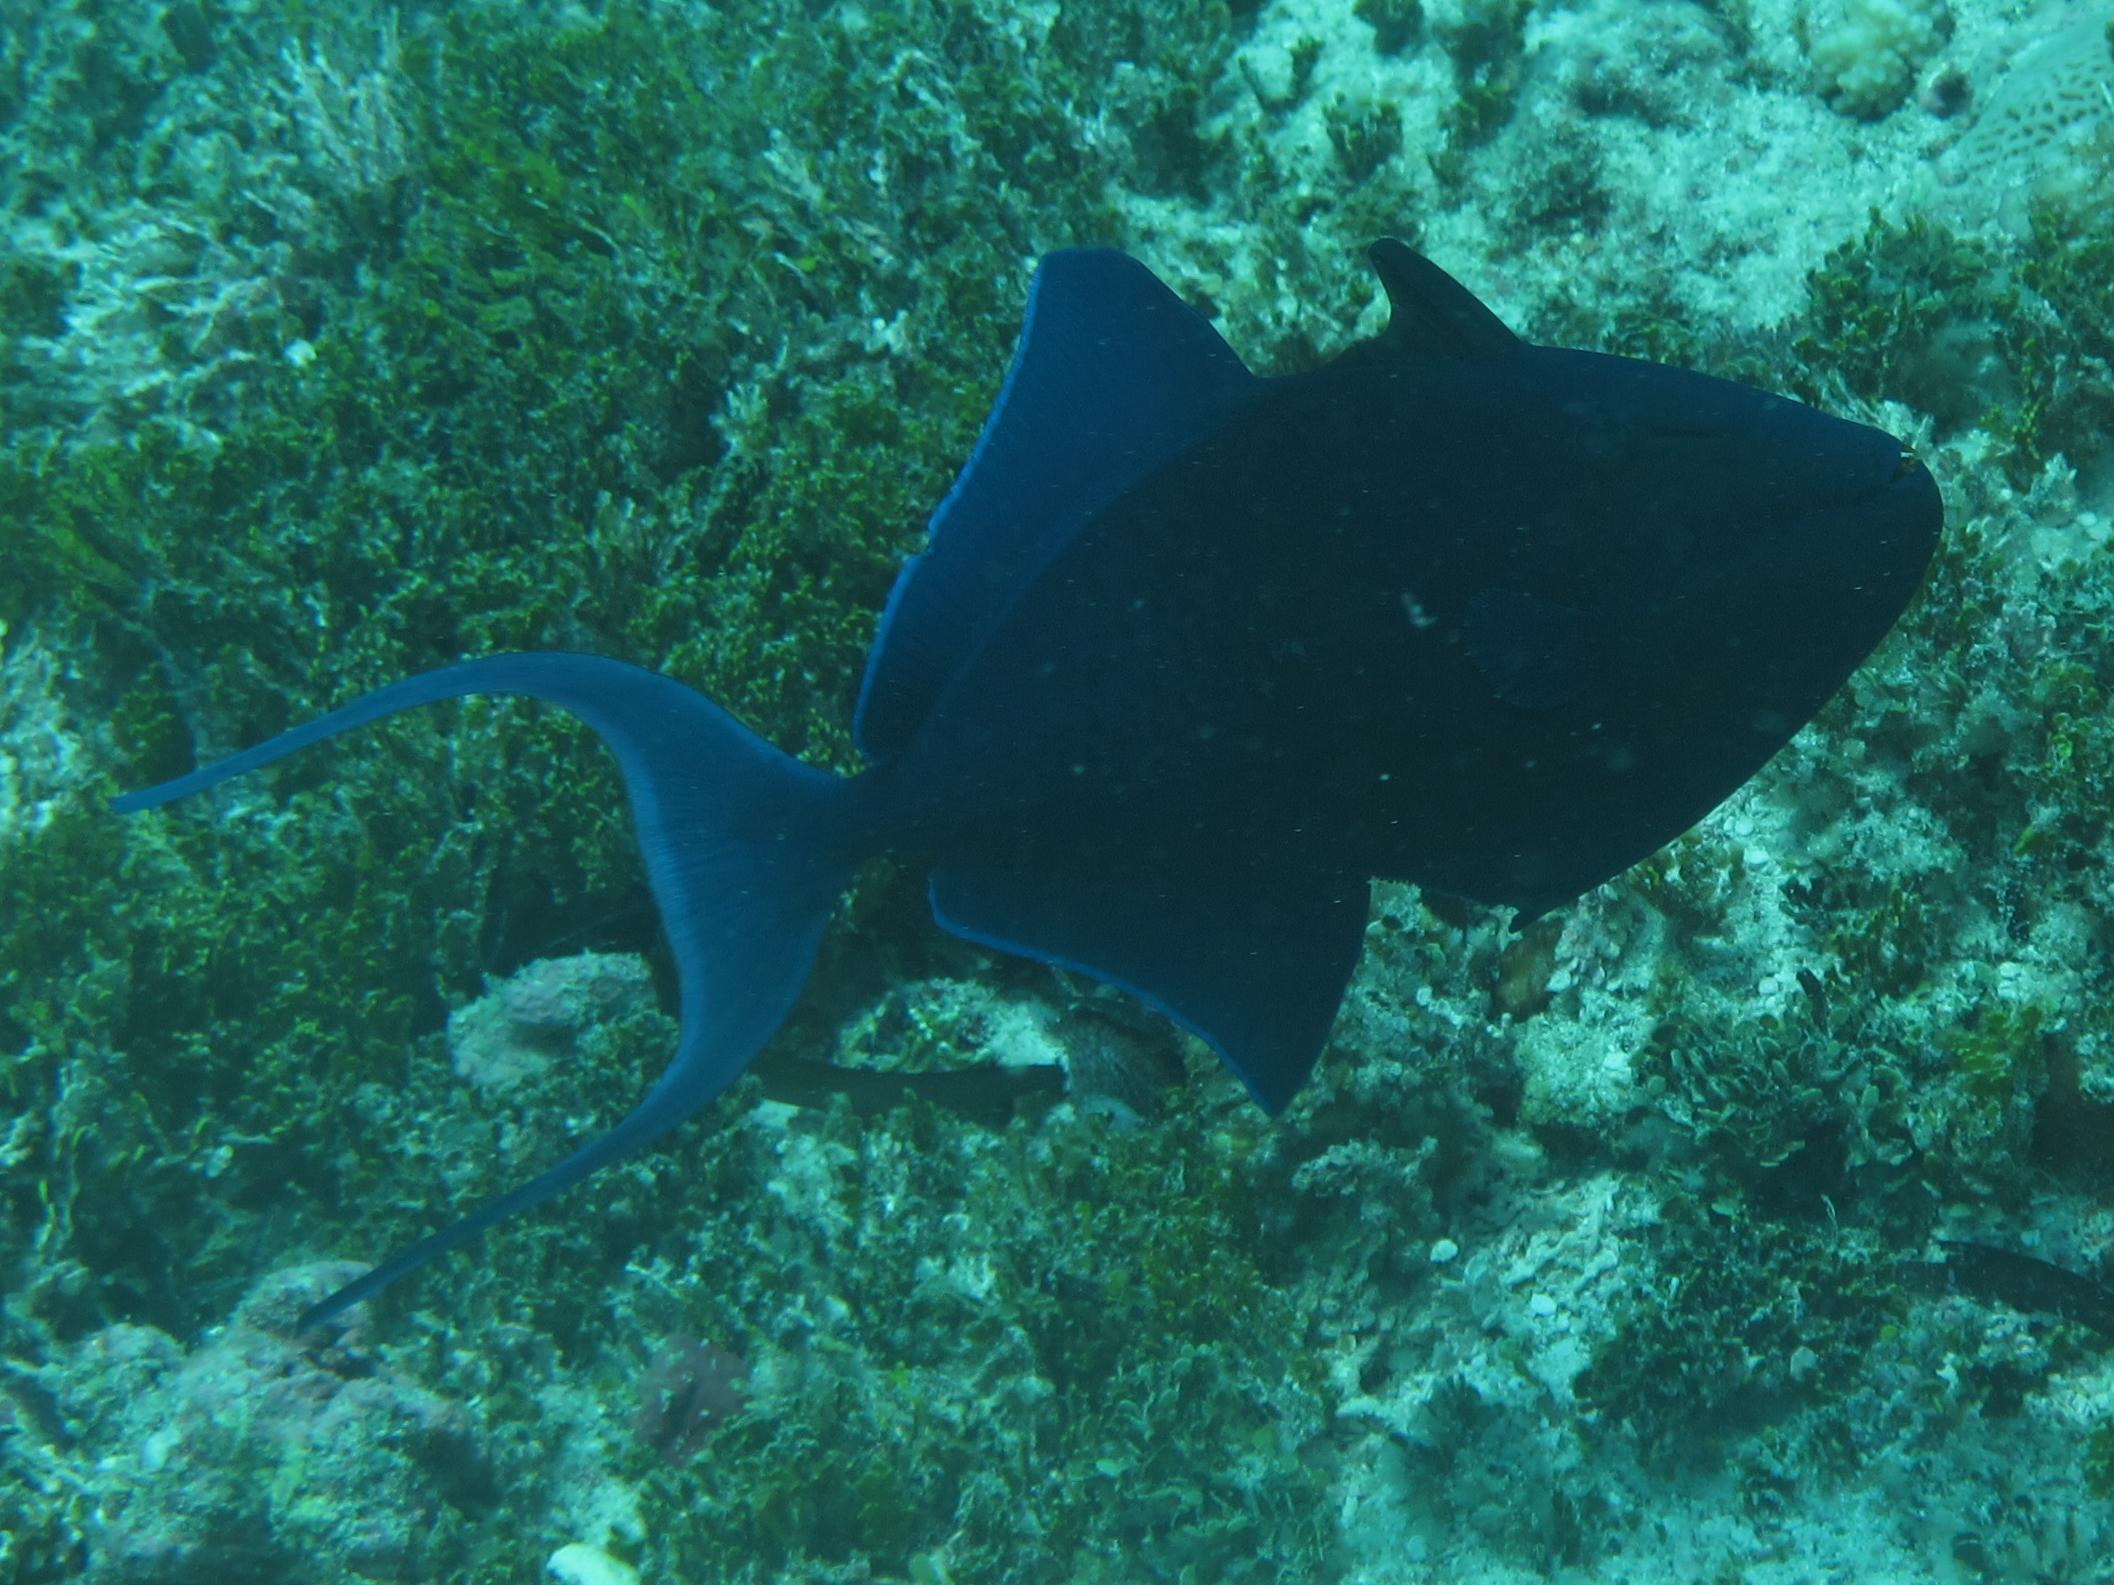Odonus niger: (118, 180, 2066, 1430)
